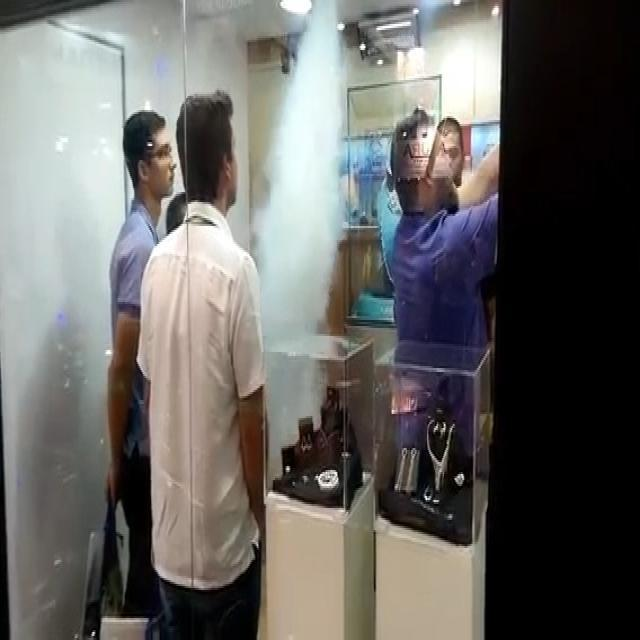Smoke: (253, 0, 346, 452)
